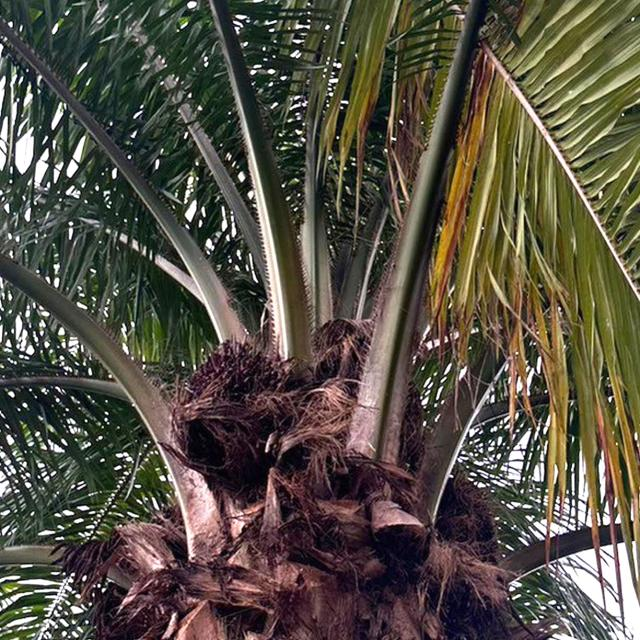ripe: (160, 321, 293, 423)
